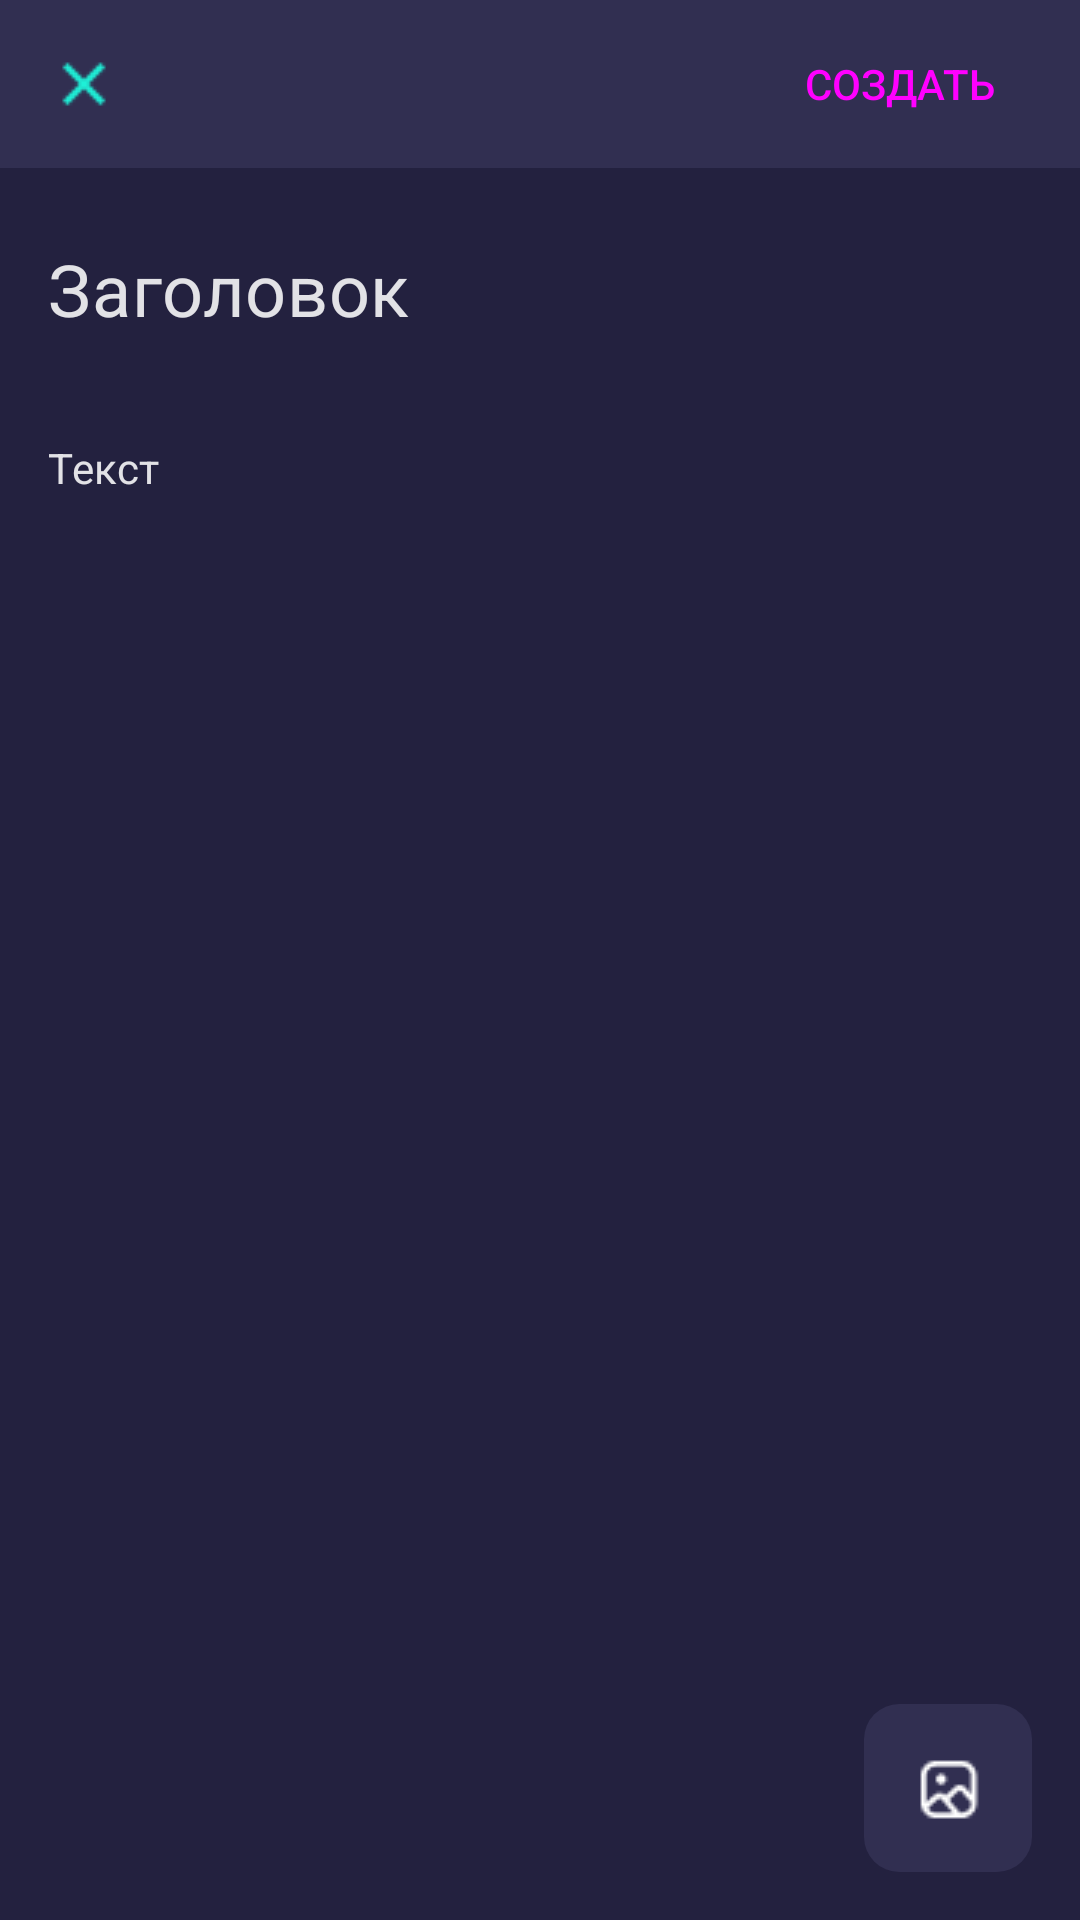

Screen size 1080w x 1920h. Icon name, then its center in pixels as (x=x, y=y):
Attach image: (x=949, y=1789)
Close: (x=84, y=84)
